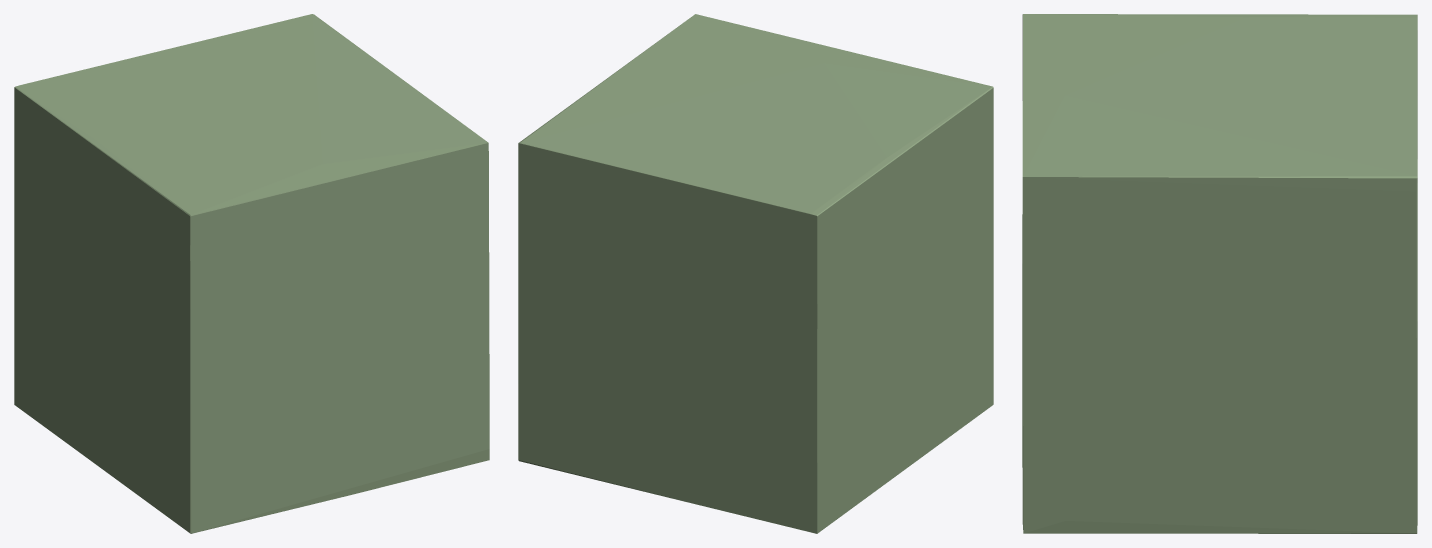
The model's file is warehouse_box_cube_a10.glb.
The picture shows the model from 3 angles, left to right: view 1: azimuth 30°, elevation 25°; view 2: azimuth 150°, elevation 25°; view 3: azimuth 270°, elevation 25°; orthographic projection. The views are drawn at different scales.
Parts seen in each view (by area): view 1: geometry_0; view 2: geometry_0; view 3: geometry_0.
Boxes of the visible parts, box(x1,y1,x2,y2) form: geometry_0: box(14, 14, 489, 533); geometry_0: box(518, 14, 993, 533); geometry_0: box(1022, 14, 1417, 533).
Bounding box in the file's own units: 0.4698 × 0.4778 × 0.4782.
